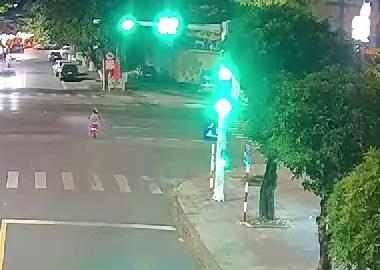green_light: (155, 14, 183, 38), (212, 95, 236, 120), (118, 16, 137, 34)
stop_line: (2, 218, 176, 230)
